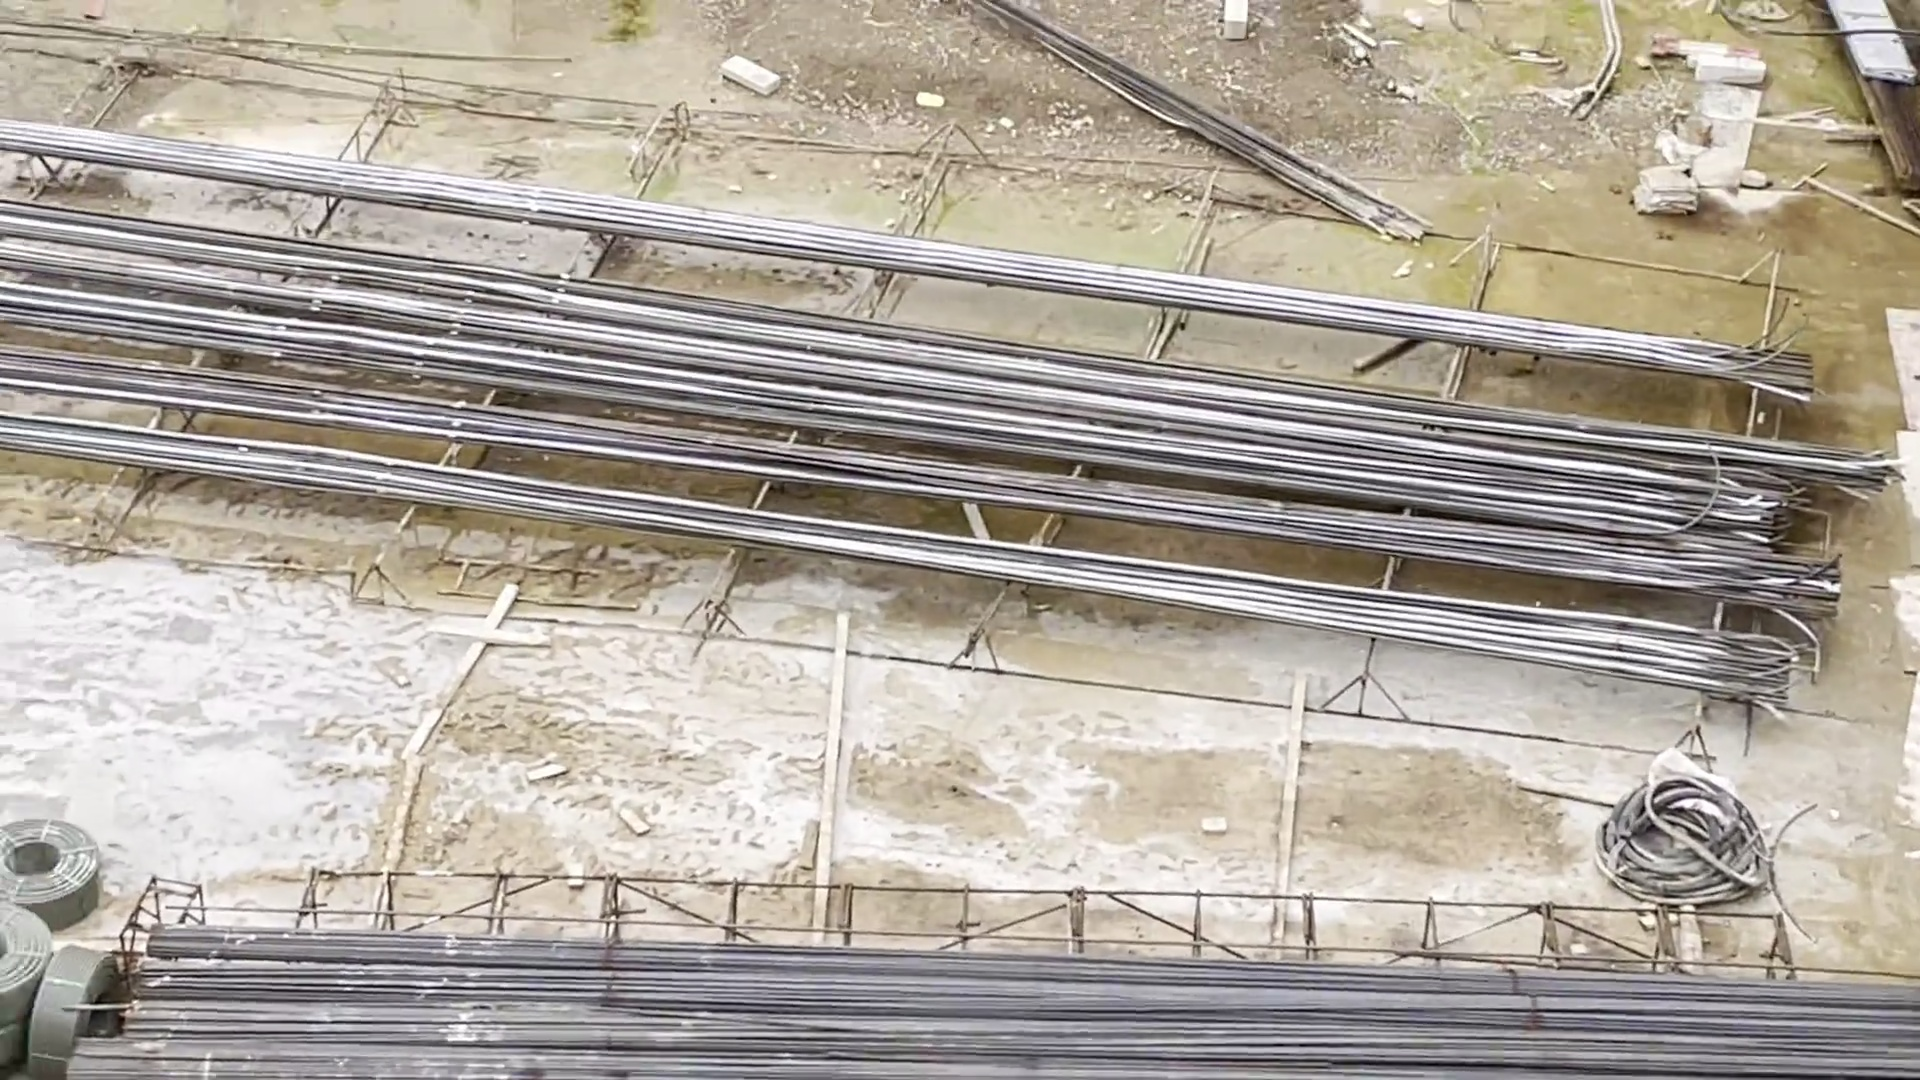rebar: (1, 115, 1817, 431), (836, 316, 1869, 716), (3, 200, 1015, 535), (44, 913, 1920, 1077)
